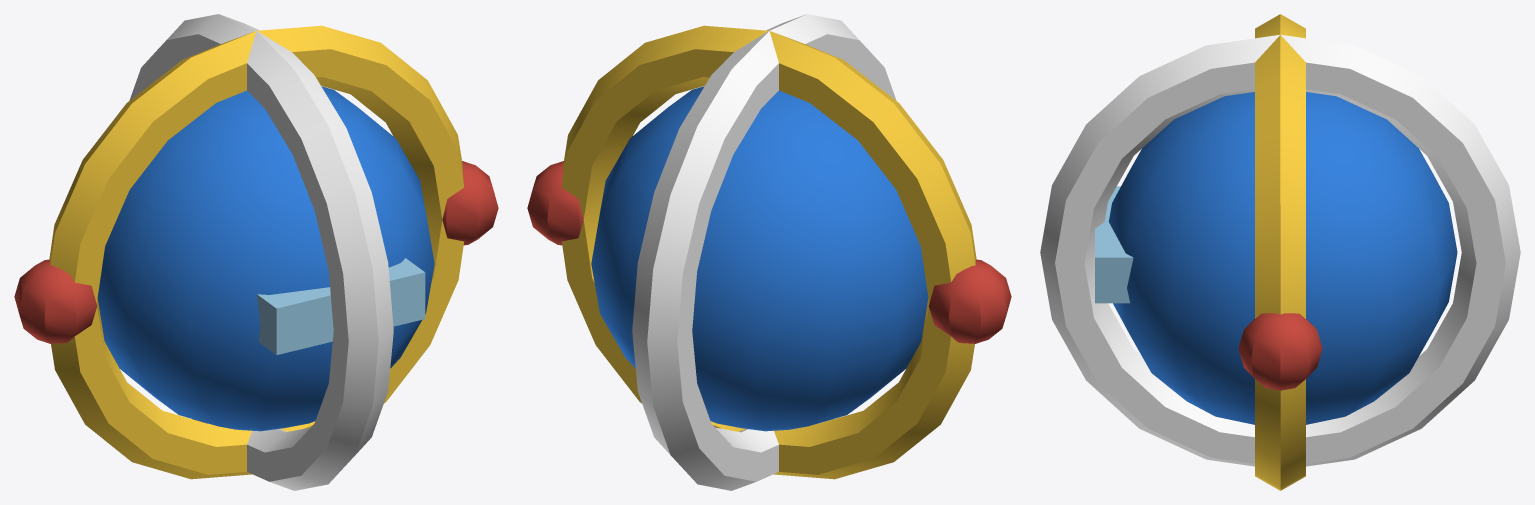
File: reverse-bungee.pod.glb
3 renders of one model, left to right at view 1: azimuth 30°, elevation 25°; view 2: azimuth 150°, elevation 25°; view 3: azimuth 270°, elevation 25°, orthographic.
Parts seen in each view (by area): view 1: model; view 2: model; view 3: model.
Part boxes in pixels (x1,y1,x2,y2): model: [14, 14, 498, 490]; model: [527, 14, 1011, 490]; model: [1040, 14, 1520, 490].
Size of the model in its own units: 0.64 by 0.57 by 0.57.
Materials: 1 (1 with a texture image).
